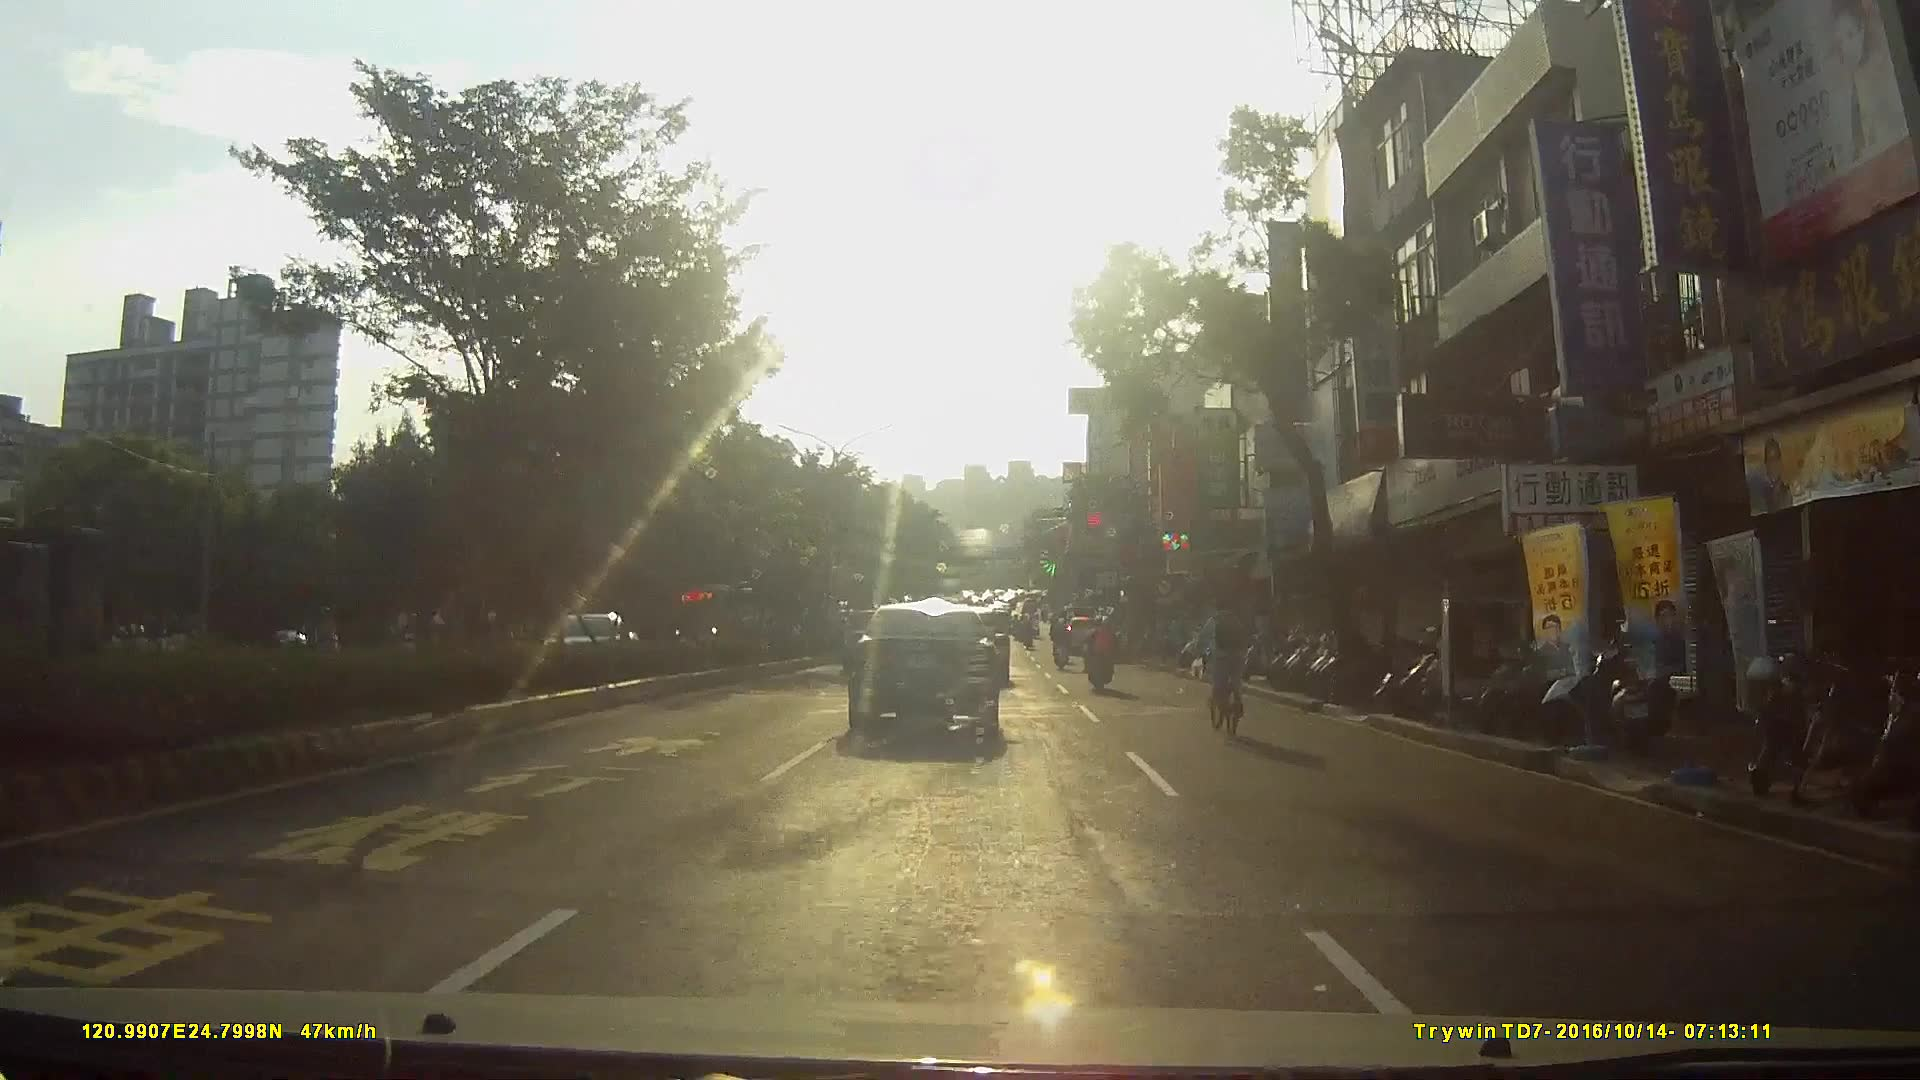rider: (1199, 590, 1265, 738), (300, 606, 349, 680), (1085, 612, 1118, 689), (1050, 611, 1074, 668)
vehicle: (848, 605, 1016, 754), (538, 612, 654, 679)
